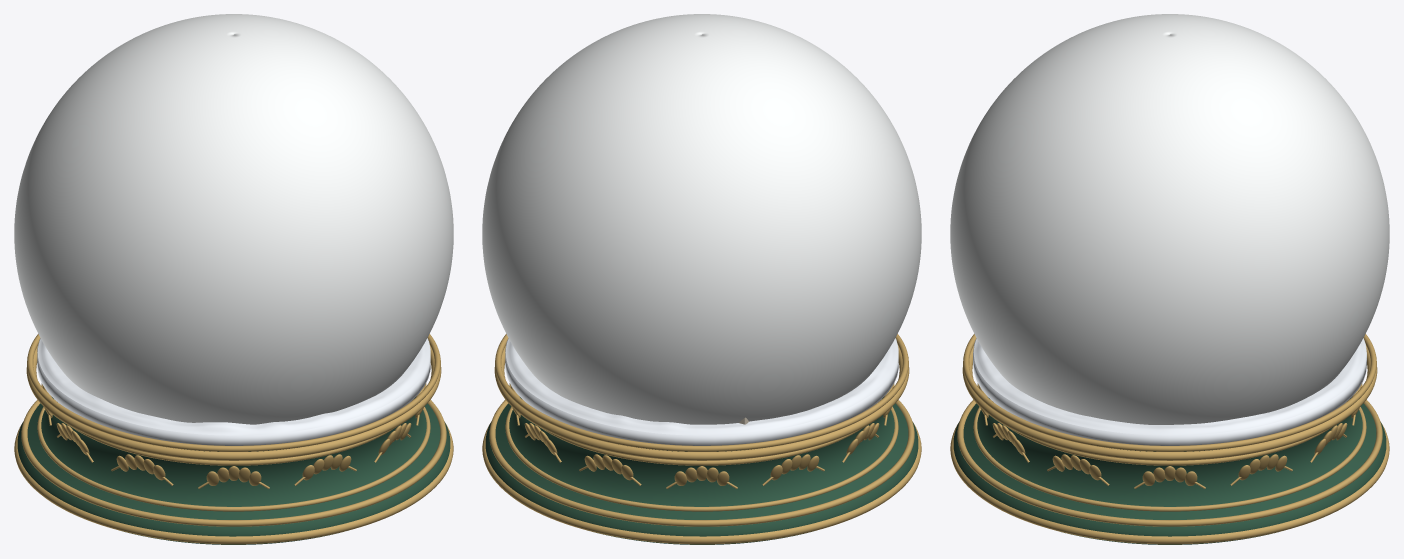
Rendered from snowglobe-mobile.glb.
The picture shows the model from 3 angles, left to right: view 1: azimuth 30°, elevation 25°; view 2: azimuth 150°, elevation 25°; view 3: azimuth 270°, elevation 25°; orthographic projection.
Visible parts, largest first — view 1: GLASS, BASE, CITY; view 2: GLASS, BASE, CITY; view 3: GLASS, BASE, CITY.
Boxes of the visible parts, box(x1,y1,x2,y2) form: GLASS: box(14, 14, 453, 424); BASE: box(14, 334, 453, 544); CITY: box(37, 338, 430, 445); GLASS: box(482, 14, 921, 424); BASE: box(482, 334, 921, 544); CITY: box(505, 338, 898, 445); GLASS: box(950, 14, 1389, 424); BASE: box(950, 334, 1389, 544); CITY: box(973, 338, 1366, 445).
Size of the model in its own units: 3.15 by 3.33 by 3.15.
